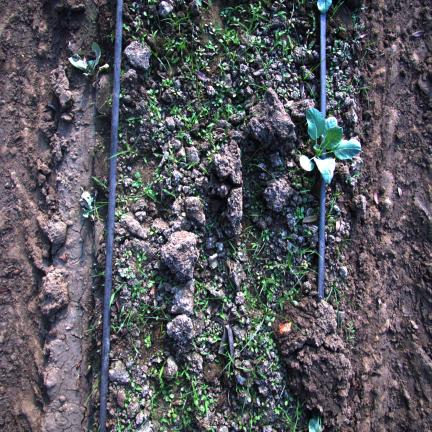crop: (299, 108, 361, 184), (68, 42, 101, 76), (100, 64, 109, 69)
